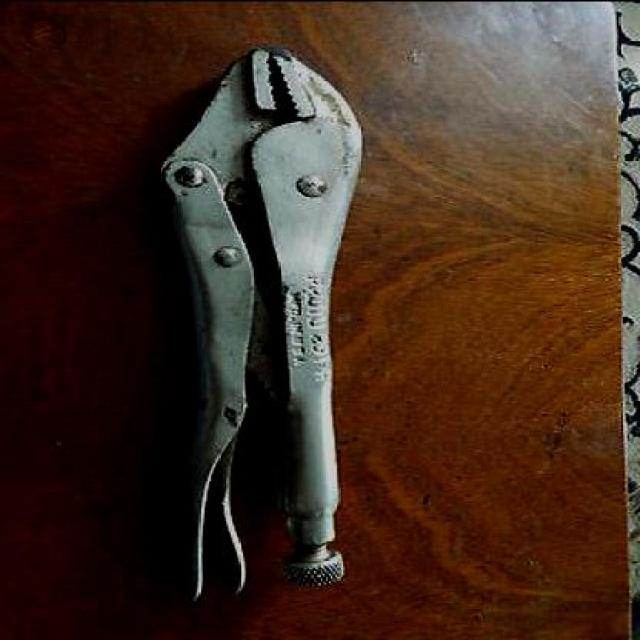pliers: (153, 38, 367, 606)
